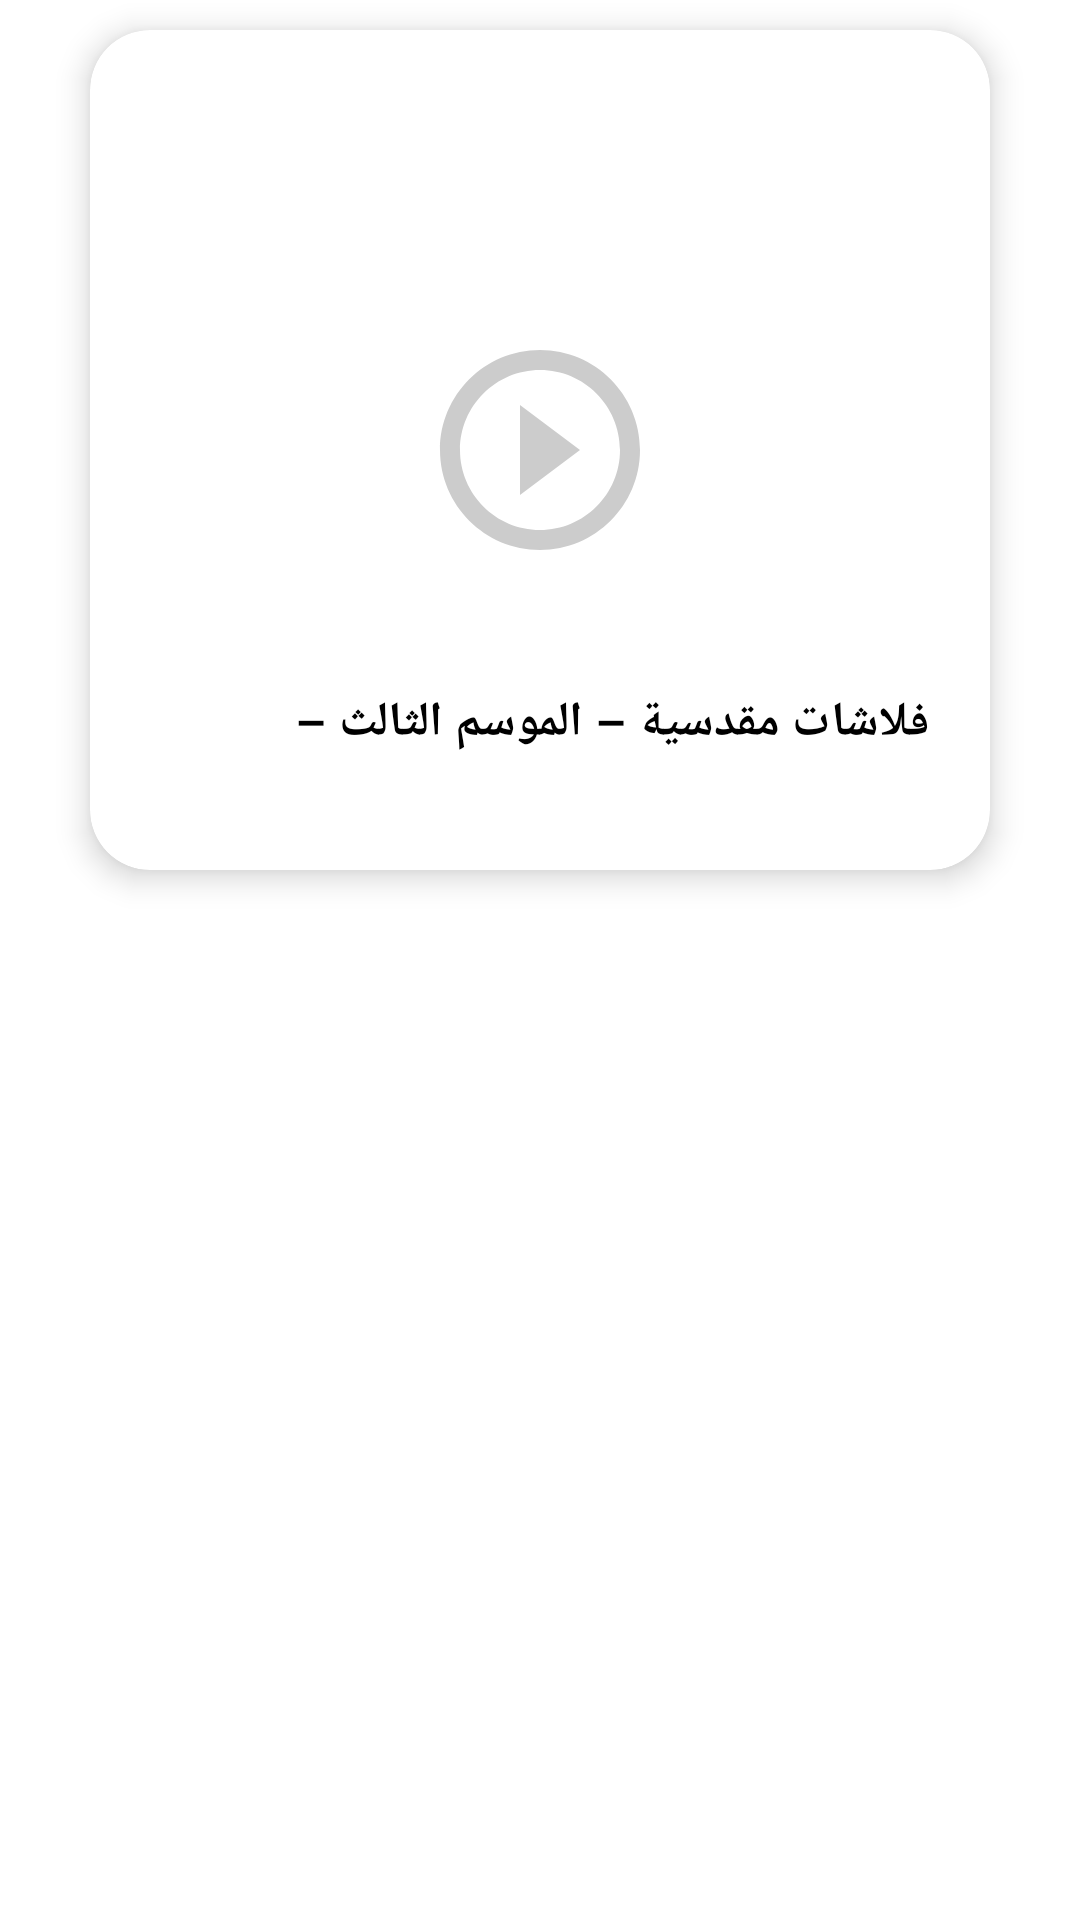

Named icons in this screenshot (1080*1920) and their bounding boxes, (x1, y1, x2, y2):
play circle: (440, 350, 640, 550)
